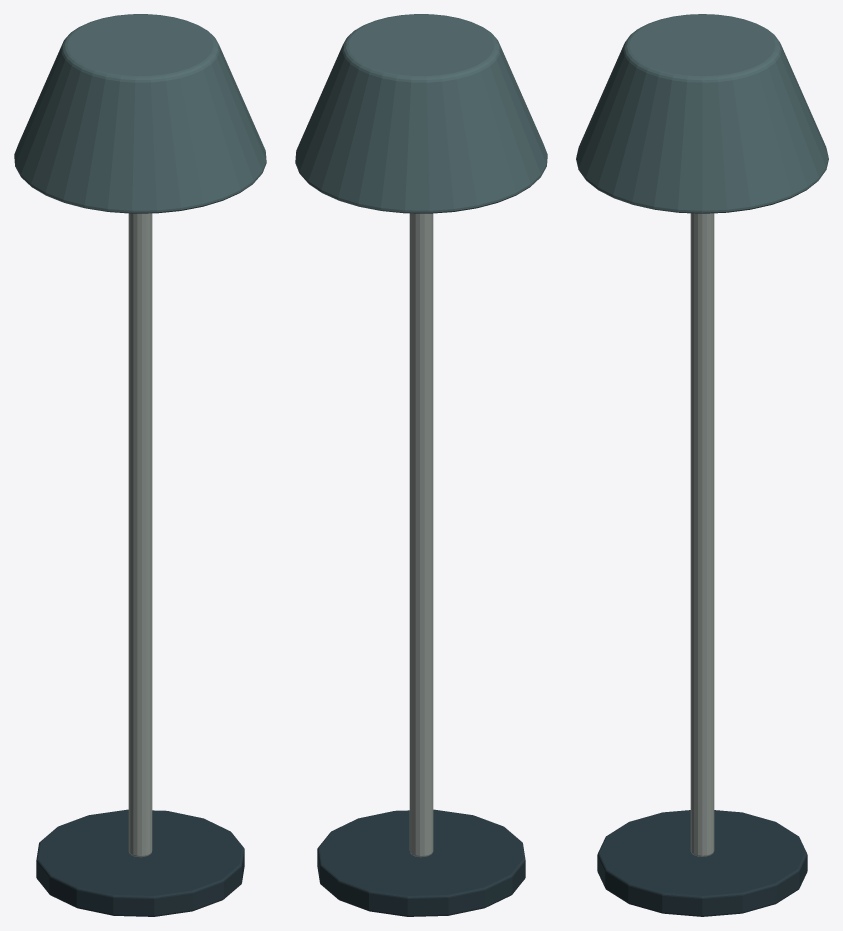
File: lamp.fbx
3 views of the same model, side by side, from view 1: azimuth 30°, elevation 25°; view 2: azimuth 150°, elevation 25°; view 3: azimuth 270°, elevation 25° (orthographic).
Parts seen in each view (by area): view 1: lamp; view 2: lamp; view 3: lamp.
Part boxes in pixels (left/top/right/bottom): lamp: left=14, top=14, right=266, bottom=916; lamp: left=295, top=14, right=547, bottom=916; lamp: left=576, top=14, right=828, bottom=916.
Bounding box in the file's own units: 55.36 × 200 × 55.36.
